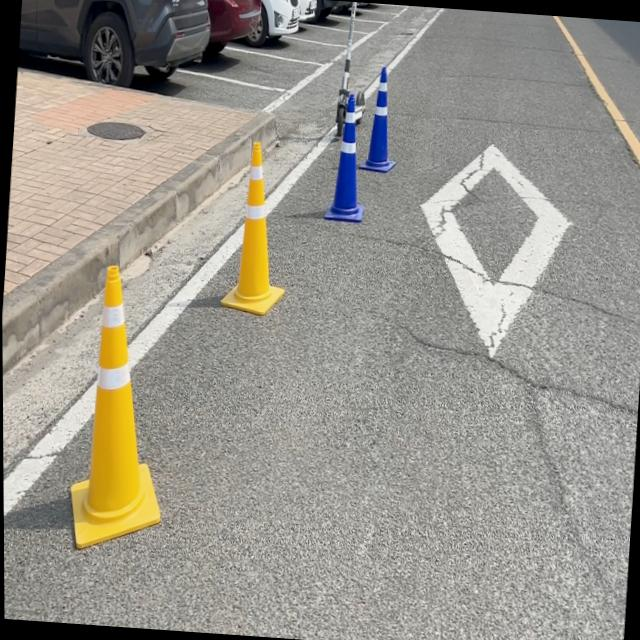b_rub: (324, 91, 364, 221), (359, 64, 396, 171)
y_rub: (69, 265, 158, 548), (220, 140, 284, 314)
